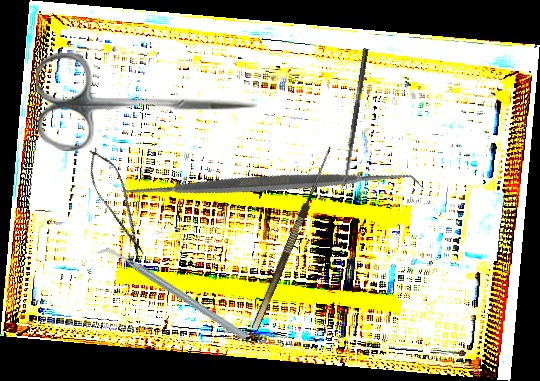Chopper: (96, 207, 249, 380)
Hook Surgical: (241, 142, 335, 331)
Iris Scissors: (36, 53, 257, 151)
Micro Scissor: (79, 142, 155, 262)
Spatula Surgical: (110, 26, 425, 342)
Surgical Spoon: (340, 47, 369, 191)
